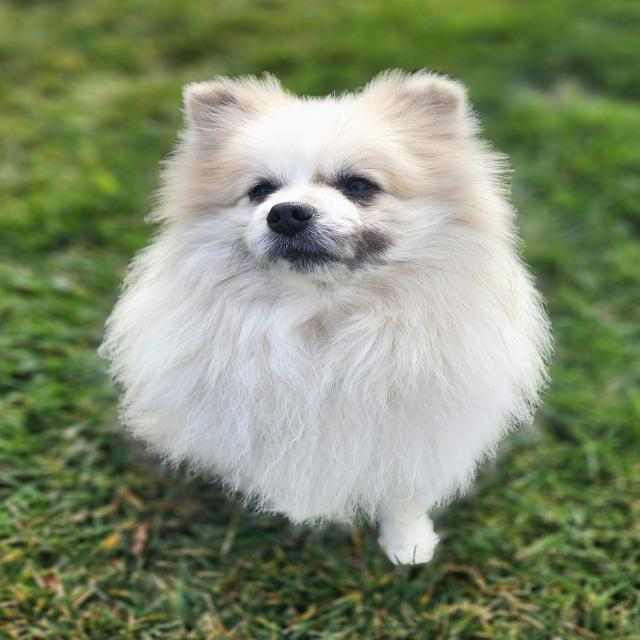pomeranian_dog: (142, 58, 540, 364)
